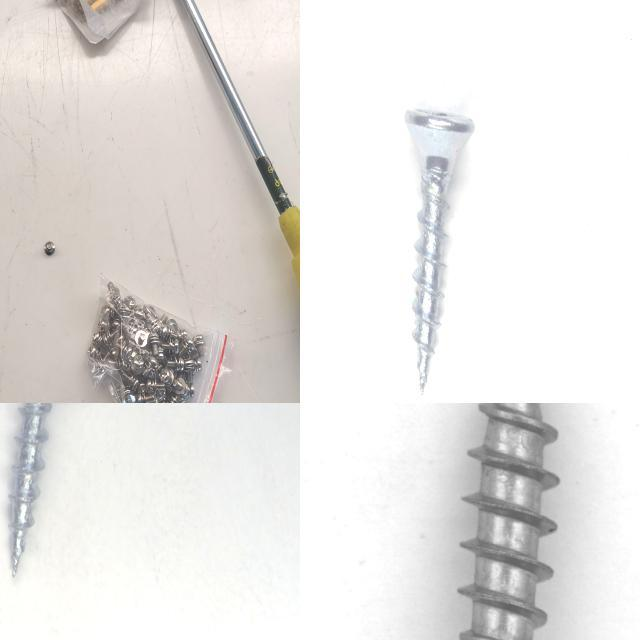Screw: (331, 403, 626, 640), (404, 107, 475, 394), (10, 403, 51, 571), (42, 239, 56, 257)
